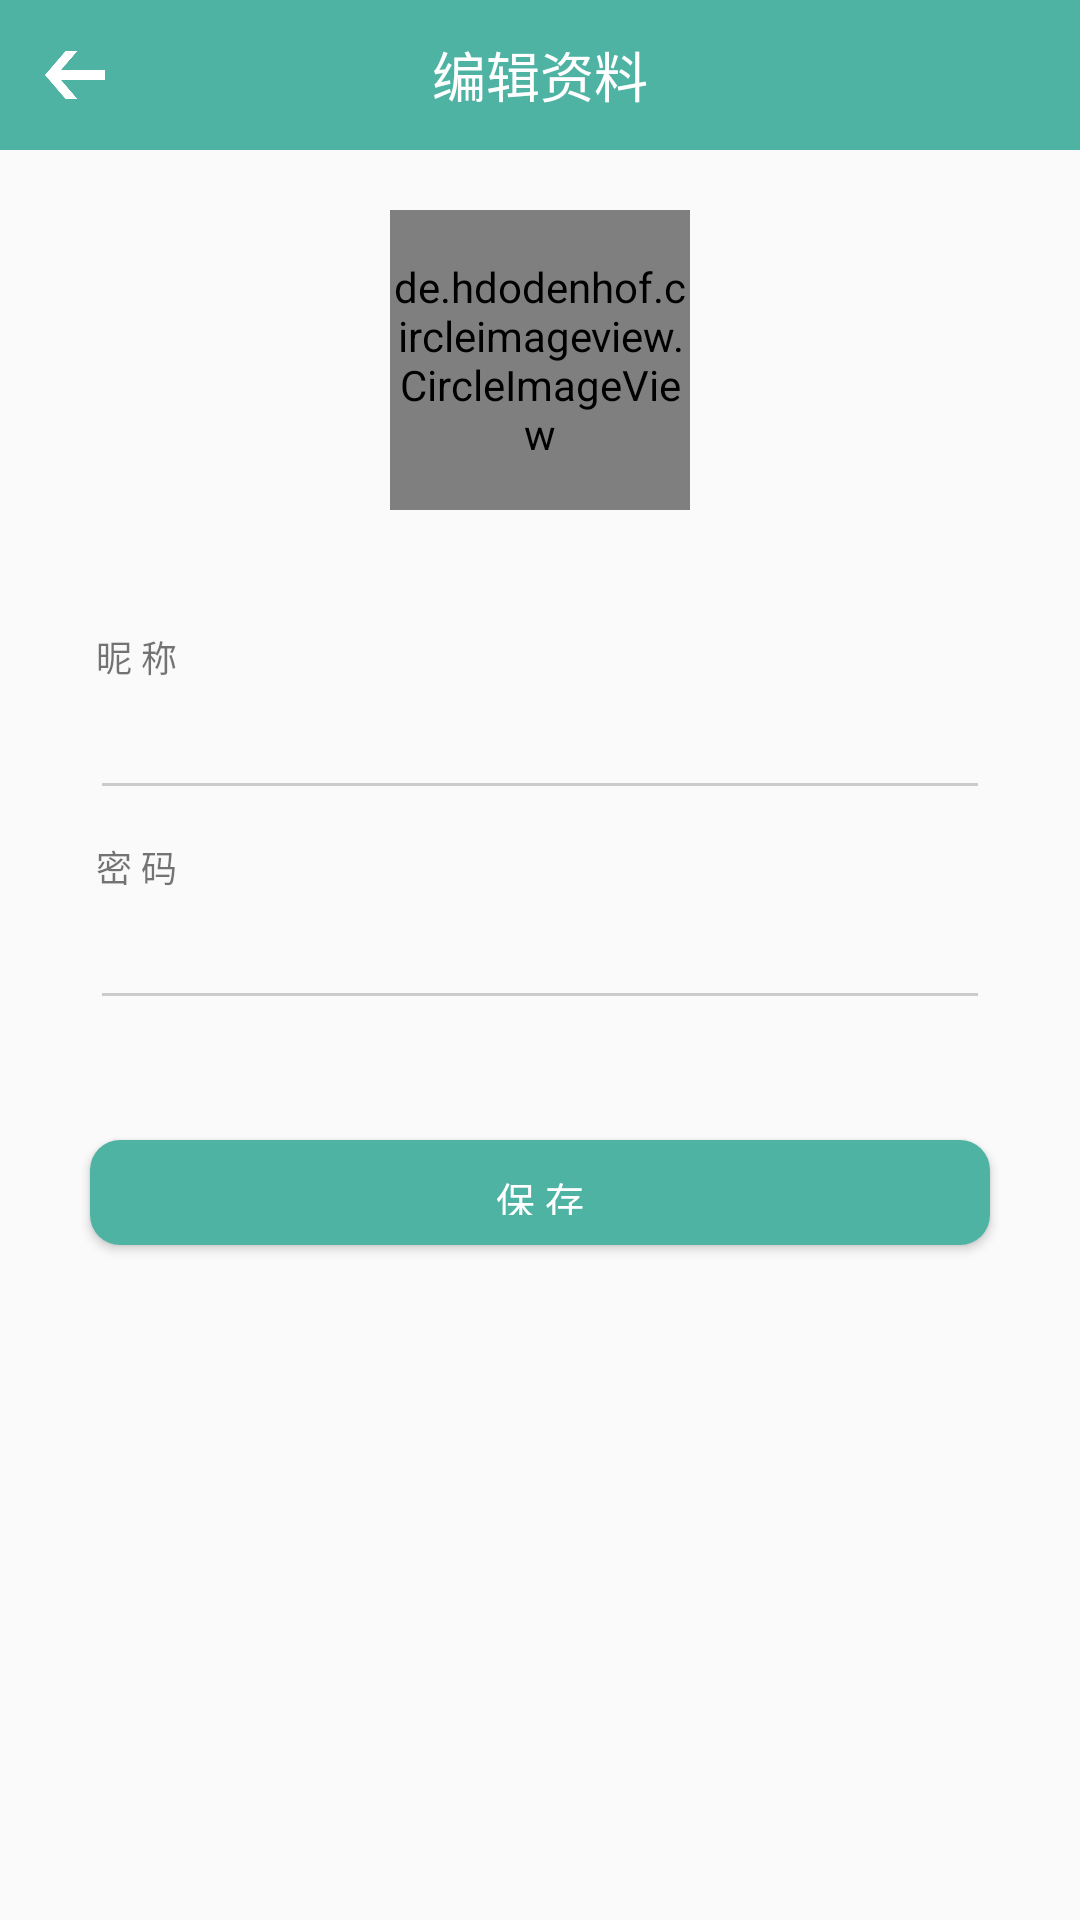

Icon click points for this 1080px×1920px phone screenshot, format (x=x, y=y):
goback: (x=75, y=75)
